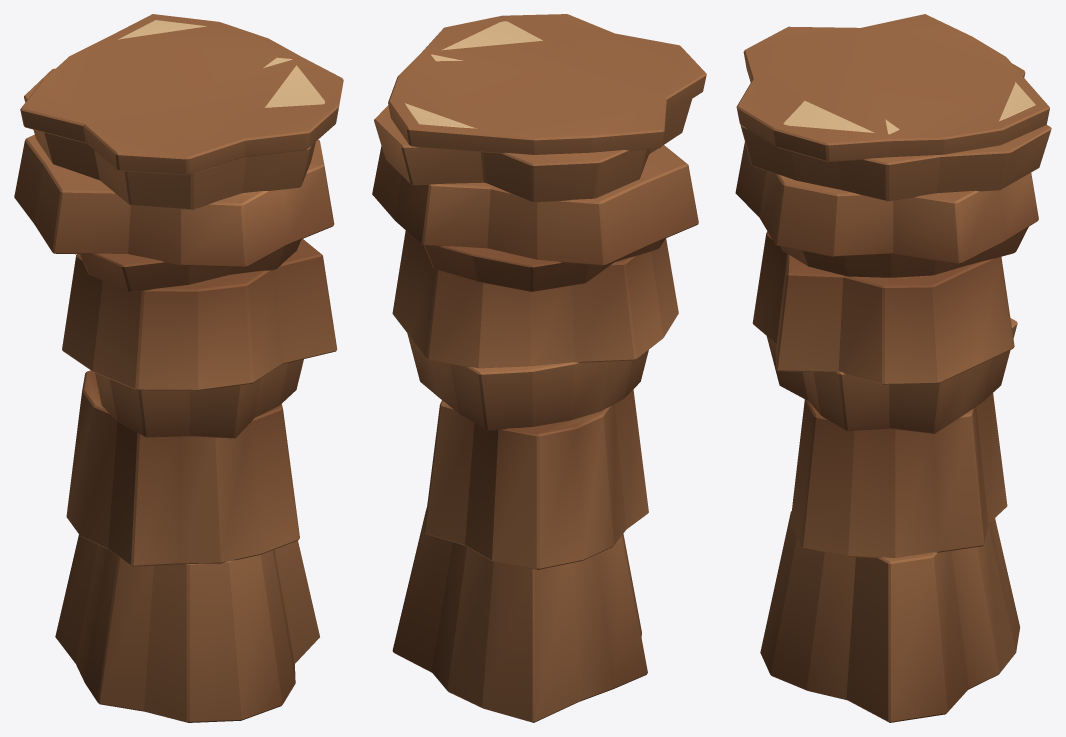
Rendered from desert_ledge.glb.
The picture shows the model from 3 angles, left to right: view 1: azimuth 30°, elevation 25°; view 2: azimuth 150°, elevation 25°; view 3: azimuth 270°, elevation 25°; orthographic projection.
Visible parts, largest first — view 1: D_Ledge__D_rock, D_Ledge__D_s2; view 2: D_Ledge__D_rock, D_Ledge__D_s2; view 3: D_Ledge__D_rock, D_Ledge__D_s2.
Boxes of the visible parts, <box> form: D_Ledge__D_rock: <box>14,14,343,722</box>; D_Ledge__D_s2: <box>118,20,324,107</box>; D_Ledge__D_rock: <box>372,14,706,722</box>; D_Ledge__D_s2: <box>405,21,542,128</box>; D_Ledge__D_rock: <box>735,14,1051,722</box>; D_Ledge__D_s2: <box>783,82,1035,134</box>.
Bounding box in the file's own units: 16.2 × 32.03 × 15.94.
